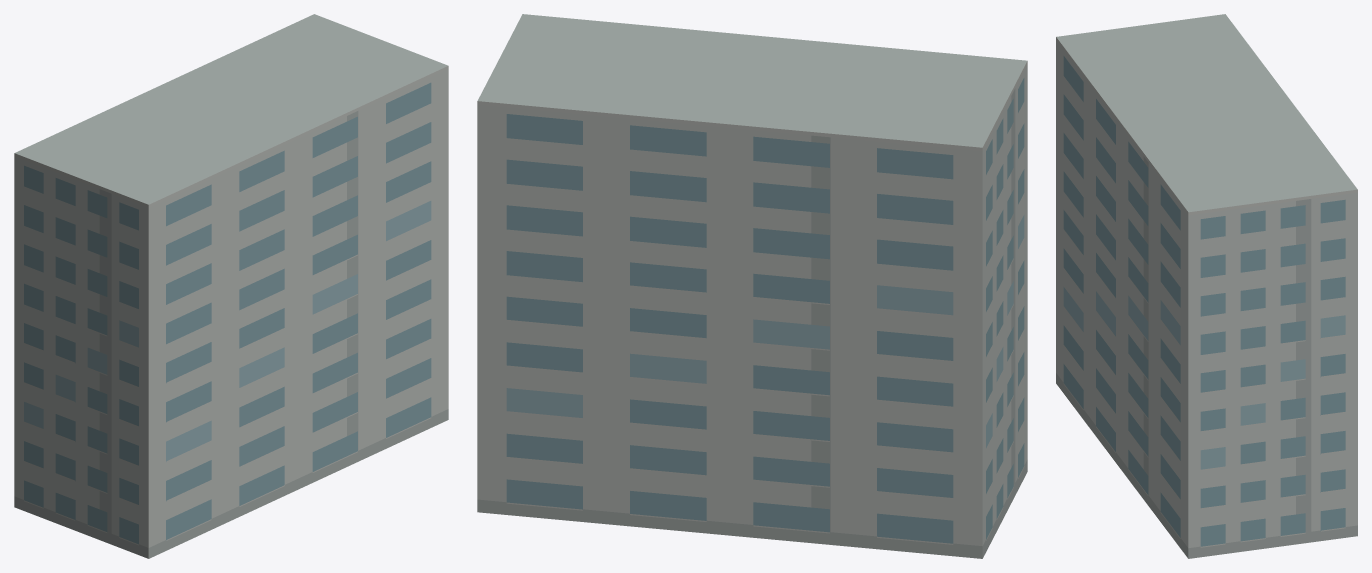
The model's file is residential-694338ac-81d0-4279-b3a7-72e0e905f998.glb.
3 views of the same model, side by side, from view 1: azimuth 30°, elevation 25°; view 2: azimuth 150°, elevation 25°; view 3: azimuth 270°, elevation 25° (orthographic). The views are drawn at different scales.
Visible parts, largest first — view 1: residential-694338ac-81d0-4279-b3a7-72e0e905f998.tmp; view 2: residential-694338ac-81d0-4279-b3a7-72e0e905f998.tmp; view 3: residential-694338ac-81d0-4279-b3a7-72e0e905f998.tmp.
Part boxes in pixels (x1,y1,x2,y2): residential-694338ac-81d0-4279-b3a7-72e0e905f998.tmp: (14,14,448,558); residential-694338ac-81d0-4279-b3a7-72e0e905f998.tmp: (477,14,1027,558); residential-694338ac-81d0-4279-b3a7-72e0e905f998.tmp: (1056,14,1357,558).
Bounding box in the file's own units: 33.69 × 27.45 × 21.66.
